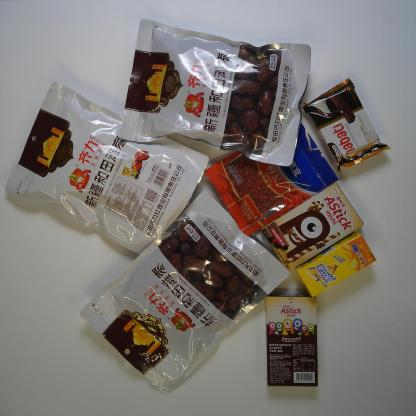Dessert: (259, 182, 367, 274), (300, 77, 392, 173), (264, 295, 320, 389)
Dried Food: (76, 189, 293, 398), (3, 82, 212, 256), (114, 17, 313, 166)
Dried Fruit: (205, 121, 341, 238)
Drink: (294, 231, 376, 301)
